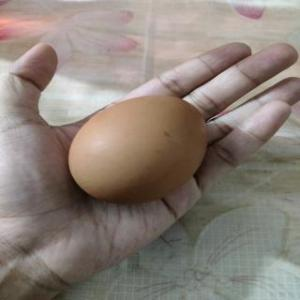egg: (67, 96, 211, 204)
